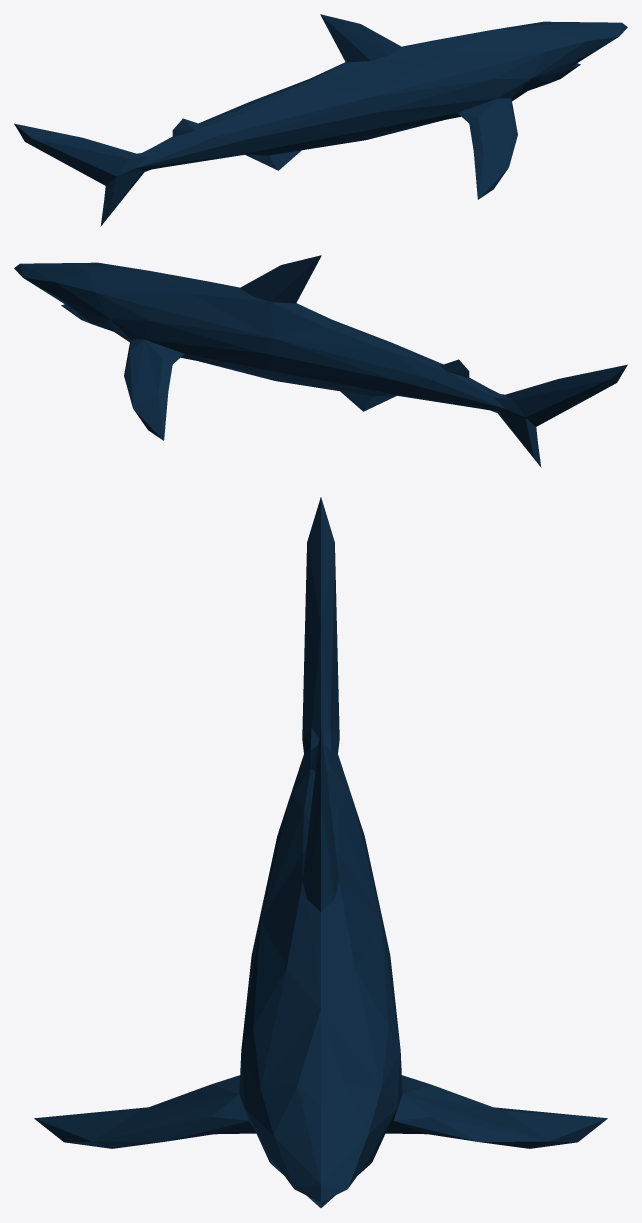
File: Shark 2.FBX
3 views of the same model, one above another, from view 1: azimuth 30°, elevation 25°; view 2: azimuth 150°, elevation 25°; view 3: azimuth 270°, elevation 25° (orthographic). The views are drawn at different scales.
Parts seen in each view (by area): view 1: Shark2; view 2: Shark2; view 3: Shark2.
Part boxes in pixels (<box>): Shark2: <box>14,14,627,226</box>; Shark2: <box>14,255,627,467</box>; Shark2: <box>34,497,607,1207</box>.
Size of the model in its own units: 371 by 91.91 by 150.
